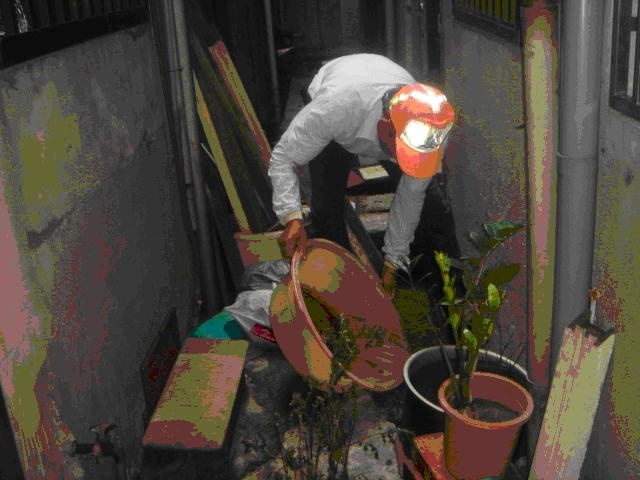bowl: (269, 236, 407, 391), (403, 343, 529, 417)
